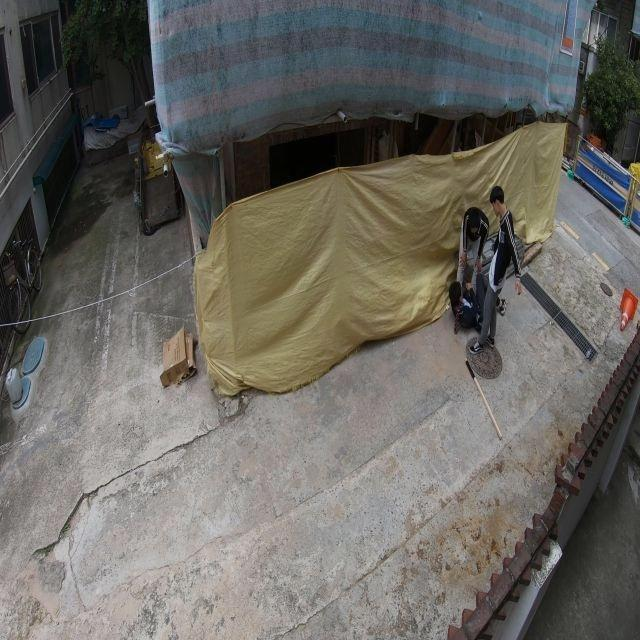fight: (446, 184, 521, 351)
